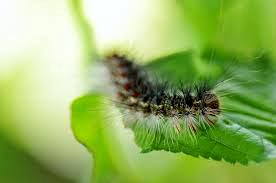Caterpillar: (99, 45, 225, 138)
